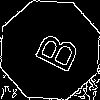B: (25, 25, 81, 75)
